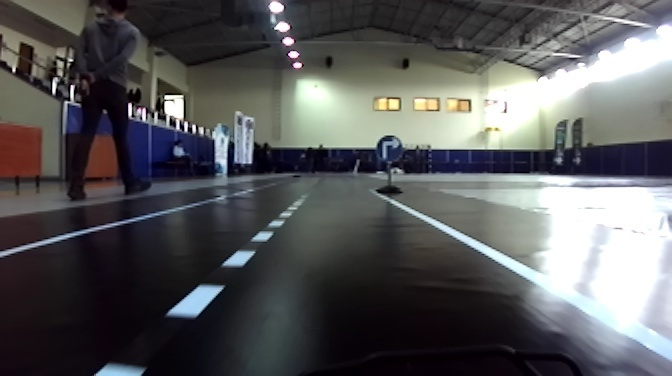saga_donus: (372, 134, 404, 166)
